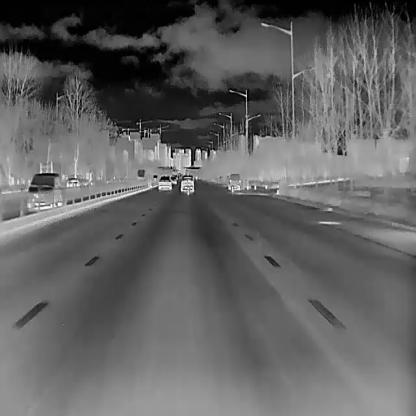car: (26, 171, 63, 209), (180, 174, 193, 194), (228, 172, 241, 190), (157, 175, 171, 189), (135, 169, 145, 181), (168, 174, 176, 184)
